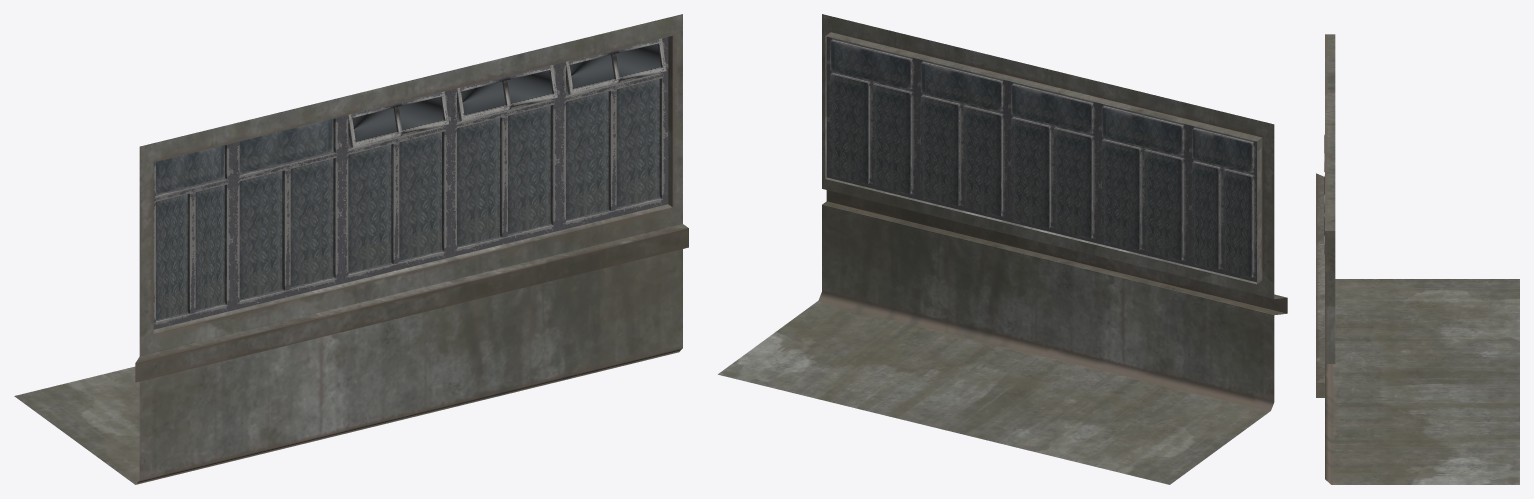
Rendered from sm_floor_one_l.glb.
3 views of the same model, side by side, from view 1: azimuth 30°, elevation 25°; view 2: azimuth 150°, elevation 25°; view 3: azimuth 270°, elevation 25° (orthographic). The views are drawn at different scales.
Parts seen in each view (by area): view 1: sm_floor_one_l; view 2: sm_floor_one_l; view 3: sm_floor_one_l.
Part boxes in pixels (<box>): sm_floor_one_l: <box>14,14,688,484</box>; sm_floor_one_l: <box>718,14,1287,484</box>; sm_floor_one_l: <box>1316,34,1519,484</box>.
Bounding box in the file's own units: 5.09 × 3 × 2.09.
Materials: 2 (2 with a texture image).
